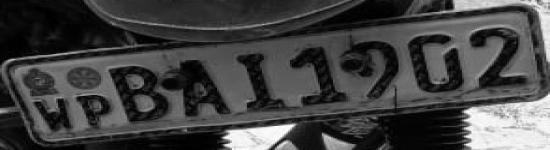0: (404, 29, 466, 95)
1: (290, 44, 349, 107)
2: (465, 20, 531, 89)
9: (344, 38, 403, 101)
A: (174, 58, 232, 120)
B: (107, 65, 175, 125)
I: (232, 52, 289, 115)
P: (75, 92, 114, 130)
W: (33, 95, 77, 133)
